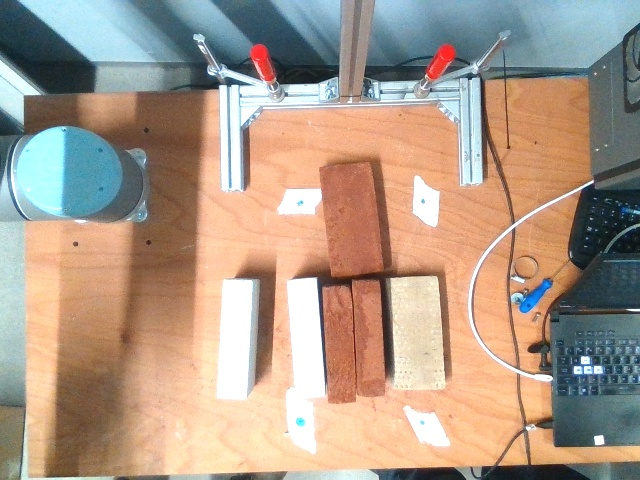brick: (320, 163, 380, 275), (388, 278, 444, 388)
brick-side: (288, 279, 324, 397), (353, 282, 388, 396), (324, 288, 359, 402), (219, 281, 251, 398)
